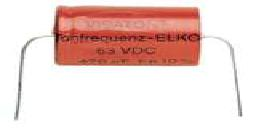Electrolytic Capacitor: (11, 1, 252, 127)
